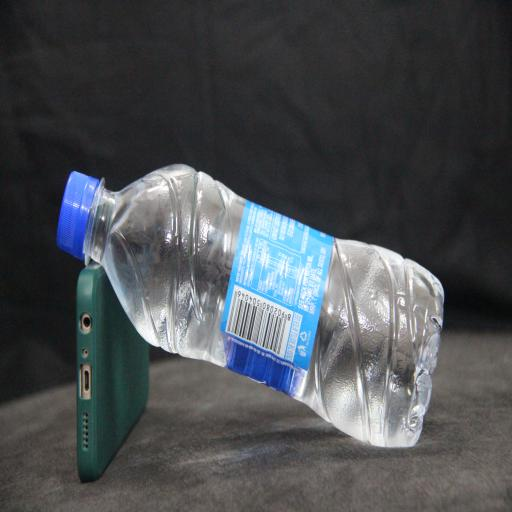Aquafina: (57, 165, 444, 447)
